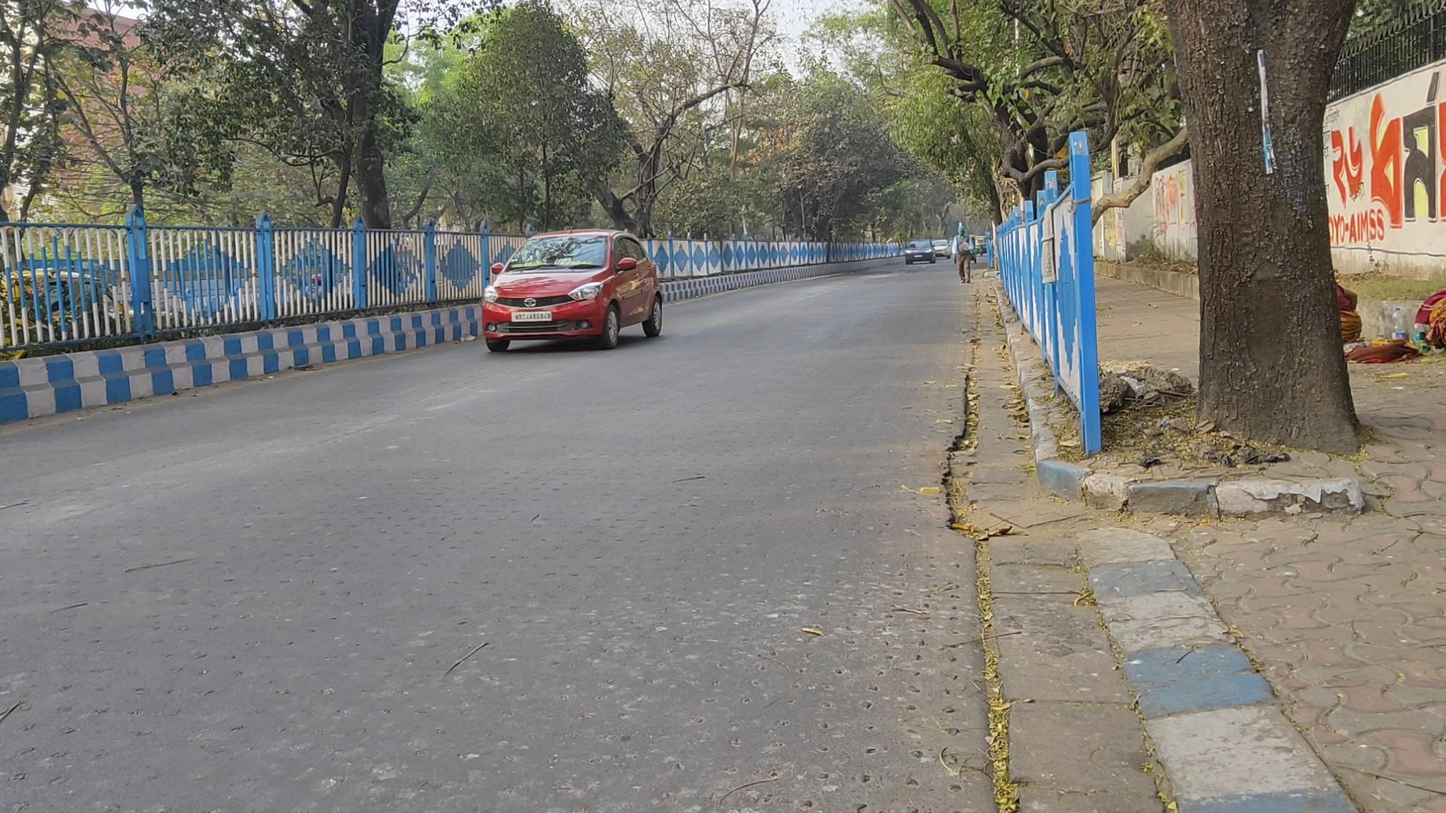Auto: (974, 235, 988, 257)
car: (483, 227, 664, 352), (905, 238, 937, 266), (933, 239, 953, 260)
